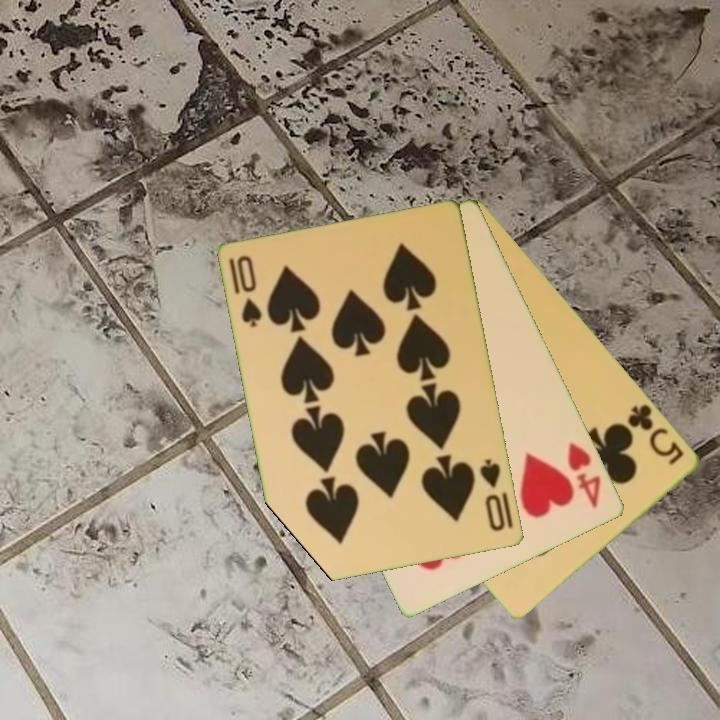10s: (226, 252, 266, 331), (476, 455, 509, 535)
4h: (564, 439, 605, 511)
5c: (624, 400, 688, 469)
